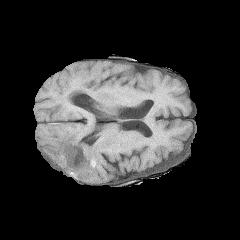glioma: (39, 116, 106, 181)
